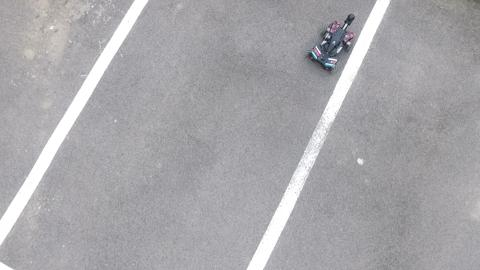chariot: (300, 5, 365, 76)
